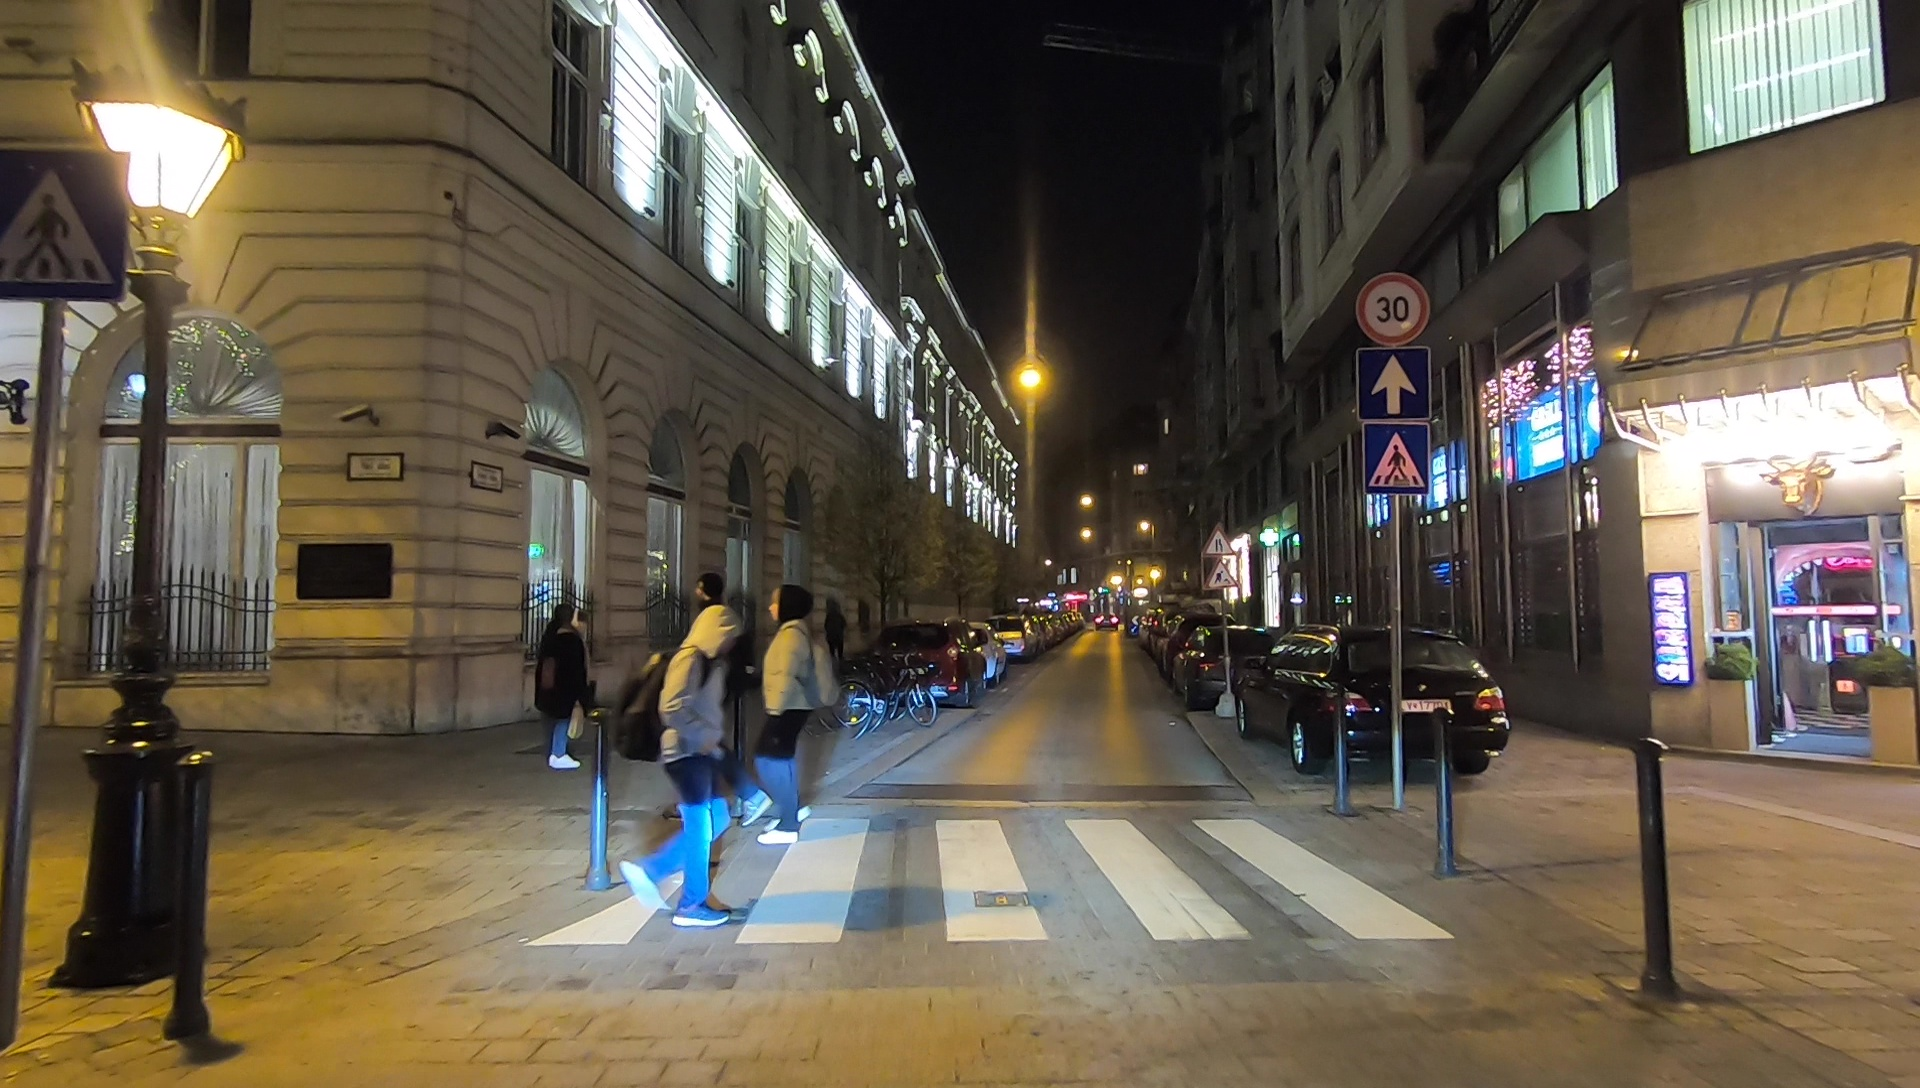person: (617, 611, 747, 930), (758, 586, 825, 841), (534, 595, 588, 771), (823, 602, 843, 665)
